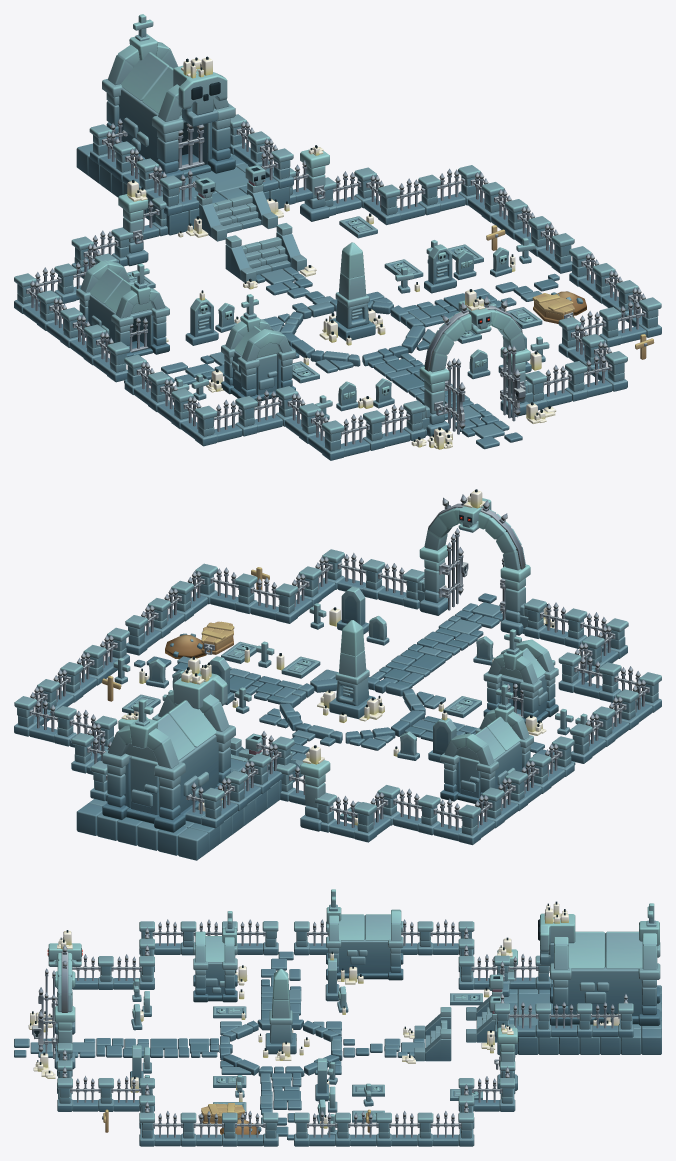
File: cemetery_sample.fbx
3 views of the same model, one above another, from view 1: azimuth 30°, elevation 25°; view 2: azimuth 150°, elevation 25°; view 3: azimuth 270°, elevation 25° (orthographic). The views are drawn at different scales.
Parts seen in each view (by area): view 1: cemetery_sample; view 2: cemetery_sample; view 3: cemetery_sample.
Boxes of the visible parts, x1,y1,x2,y2 form: cemetery_sample: [14, 14, 661, 460]; cemetery_sample: [14, 489, 661, 860]; cemetery_sample: [14, 889, 661, 1146].
Bounding box in the file's own units: 2278 × 792 × 3147.
1 material, 1 textured.
